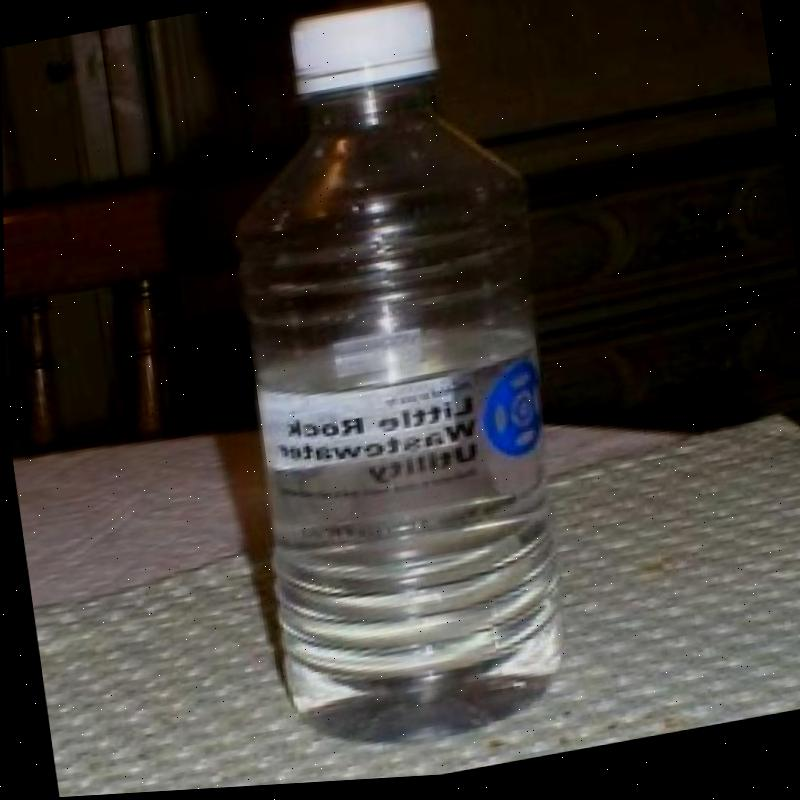botella: (196, 0, 593, 775)
